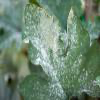Squash Powdery mildew leaf: (18, 2, 100, 98)
